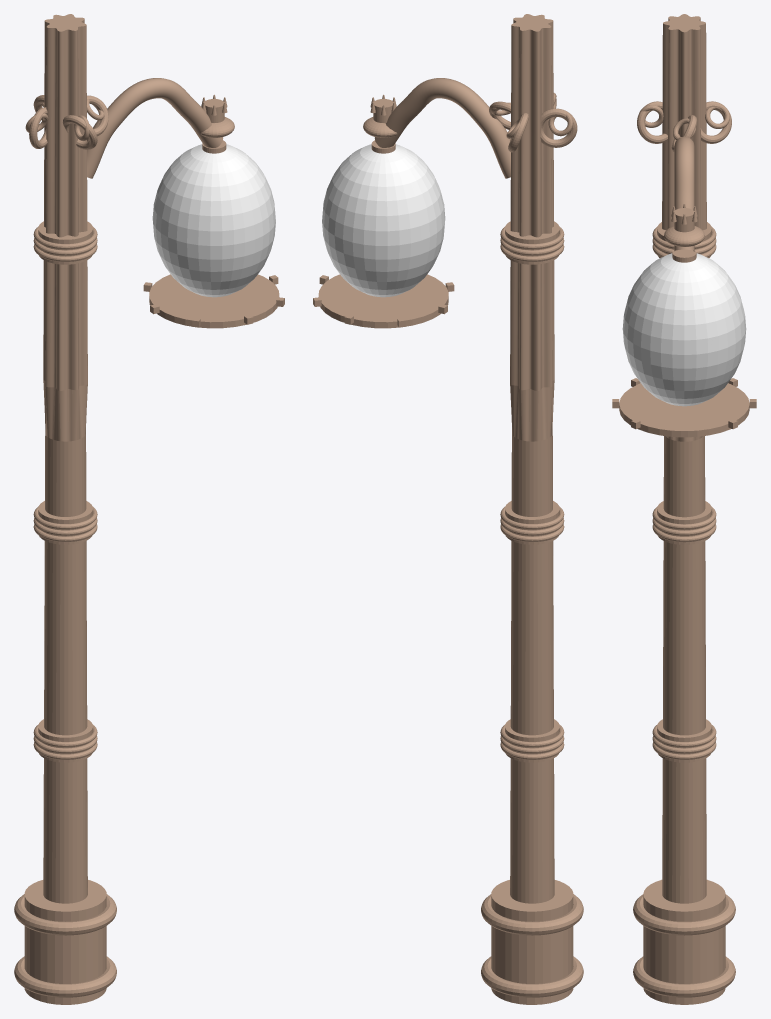
The picture shows the model from 3 angles, left to right: view 1: azimuth 30°, elevation 25°; view 2: azimuth 150°, elevation 25°; view 3: azimuth 270°, elevation 25°; orthographic projection.
Visible parts, largest first — view 1: MainPole, LanternGlobe, Base, Cylinder.005, DecorativeArm, Torus.001, Torus, Cylinder.002, Cylinder.001, Cylinder; view 2: MainPole, LanternGlobe, Base, Cylinder.005, DecorativeArm, Torus.001, Torus, Cylinder.002, Cylinder.001, Cylinder, Torus.015; view 3: MainPole, LanternGlobe, Base, Cylinder.005, Torus.001, Torus, DecorativeArm, Cylinder.001, Cylinder, Sphere, Torus.017, Torus.013 (+7 smaller).
Boxes of the visible parts, x1=… form: MainPole: x1=43, y1=14, x2=87, y2=903; LanternGlobe: x1=152, y1=144, x2=275, y2=297; Base: x1=24, y1=880, x2=106, y2=1004; Cylinder.005: x1=149, y1=274, x2=279, y2=328; DecorativeArm: x1=87, y1=78, x2=223, y2=178; Torus.001: x1=14, y1=894, x2=116, y2=935; Torus: x1=14, y1=956, x2=116, y2=997; Cylinder.002: x1=38, y1=221, x2=92, y2=264; Cylinder.001: x1=38, y1=501, x2=92, y2=544; Cylinder: x1=38, y1=719, x2=92, y2=762; MainPole: x1=510, y1=14, x2=554, y2=903; LanternGlobe: x1=322, y1=144, x2=445, y2=297; Base: x1=491, y1=880, x2=573, y2=1004; Cylinder.005: x1=318, y1=274, x2=448, y2=328; DecorativeArm: x1=374, y1=78, x2=510, y2=178; Torus.001: x1=481, y1=894, x2=583, y2=935; Torus: x1=481, y1=956, x2=583, y2=997; Cylinder.002: x1=505, y1=221, x2=559, y2=264; Cylinder.001: x1=505, y1=501, x2=559, y2=544; Cylinder: x1=505, y1=719, x2=559, y2=762; Torus.015: x1=540, y1=108, x2=577, y2=147; MainPole: x1=662, y1=14, x2=706, y2=903; LanternGlobe: x1=622, y1=253, x2=746, y2=406; Base: x1=643, y1=879, x2=725, y2=1004; Cylinder.005: x1=619, y1=383, x2=749, y2=437; Torus.001: x1=633, y1=894, x2=735, y2=935; Torus: x1=633, y1=956, x2=735, y2=997; DecorativeArm: x1=674, y1=136, x2=694, y2=251; Cylinder.001: x1=657, y1=501, x2=711, y2=544; Cylinder: x1=657, y1=719, x2=711, y2=762; Sphere: x1=664, y1=226, x2=704, y2=246; Torus.017: x1=637, y1=101, x2=667, y2=143; Torus.013: x1=700, y1=101, x2=731, y2=143.
Bounding box in the file's own units: 0.86 × 3.1 × 0.42.
